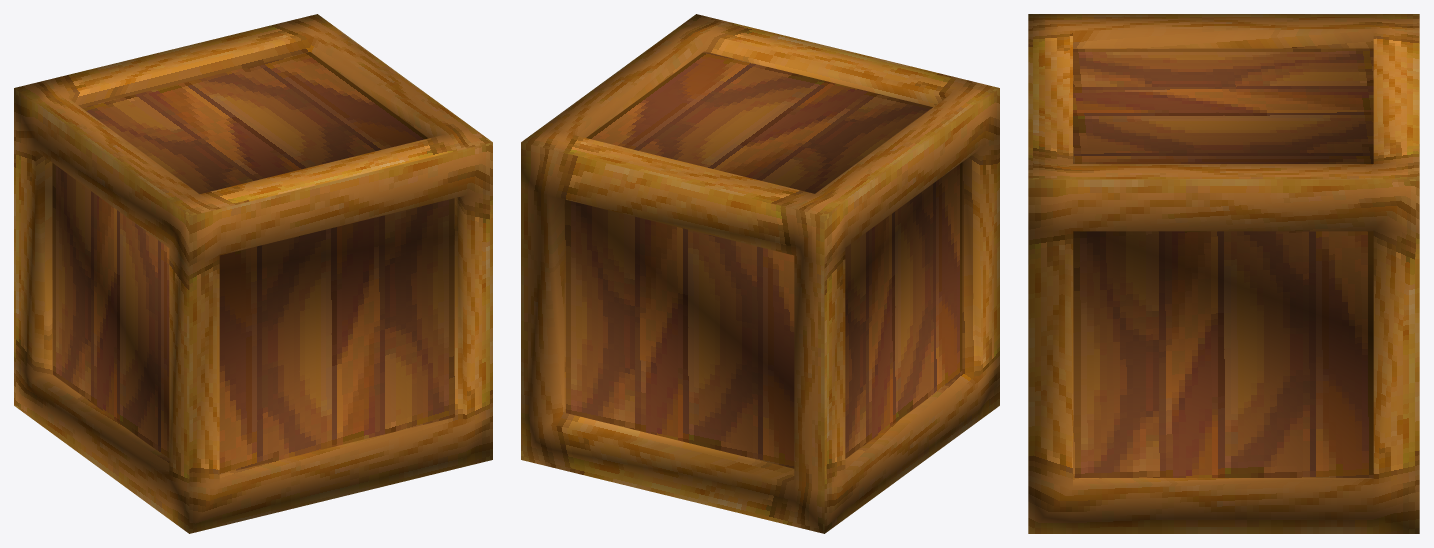
The model's file is crate.fbx.
3 views of the same model, side by side, from view 1: azimuth 30°, elevation 25°; view 2: azimuth 150°, elevation 25°; view 3: azimuth 270°, elevation 25° (orthographic). The views are drawn at different scales.
Parts seen in each view (by area): view 1: Crate; view 2: Crate; view 3: Crate.
Boxes of the visible parts, box(x1,y1,x2,y2) form: Crate: box(14, 14, 492, 533); Crate: box(521, 14, 999, 533); Crate: box(1028, 14, 1419, 533).
Bounding box in the file's own units: 1 × 1 × 1.
